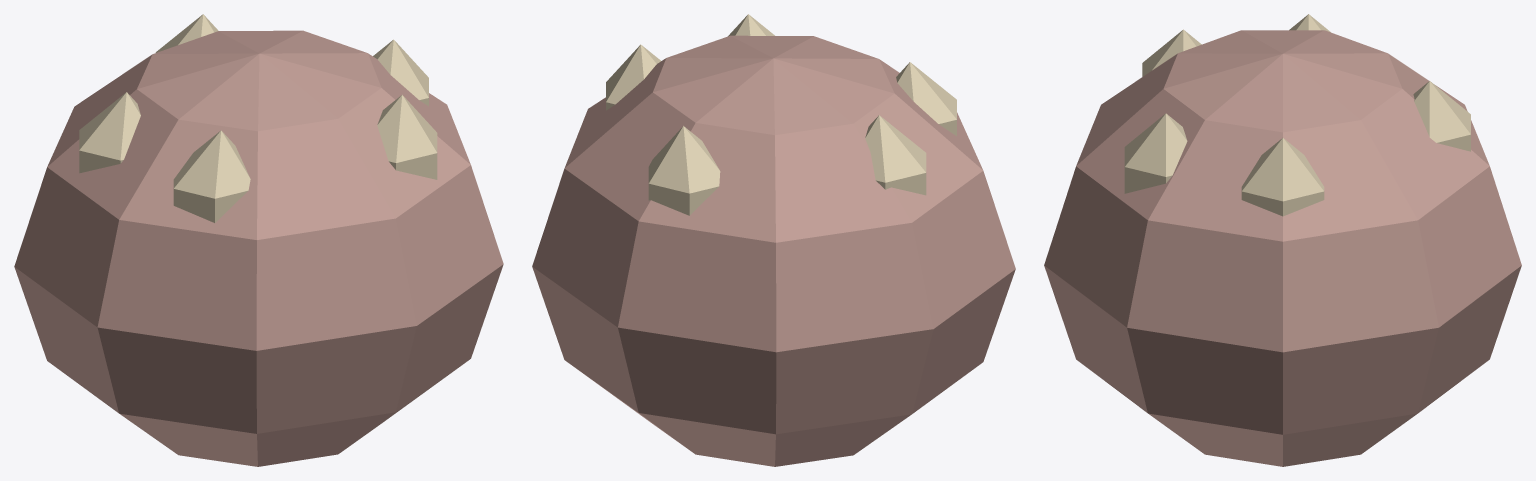
Rendered from marine-meteor-1.glb.
3 renders of one model, left to right at view 1: azimuth 30°, elevation 25°; view 2: azimuth 150°, elevation 25°; view 3: azimuth 270°, elevation 25°, orthographic.
Parts seen in each view (by area): view 1: marine-meteor-1; view 2: marine-meteor-1; view 3: marine-meteor-1.
Boxes of the visible parts, x1,y1,x2,y2 form: marine-meteor-1: (14, 14, 503, 466); marine-meteor-1: (532, 14, 1015, 466); marine-meteor-1: (1044, 14, 1521, 466).
Bounding box in the file's own units: 2.13 × 1.88 × 2.11.
